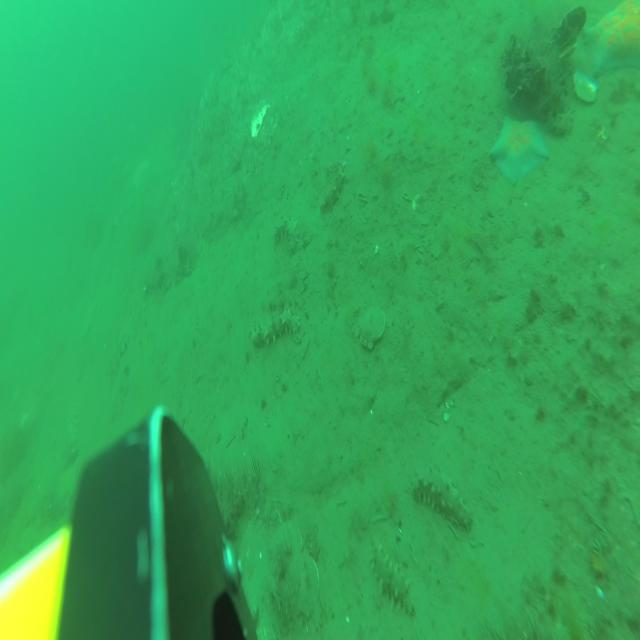holothurian: (413, 466, 471, 530), (371, 544, 415, 616), (252, 308, 298, 350), (320, 157, 346, 210), (108, 332, 130, 384), (65, 406, 80, 463), (276, 217, 298, 255)
scallop: (285, 552, 320, 618), (271, 520, 303, 572), (558, 4, 587, 48), (359, 304, 385, 349), (572, 70, 599, 104)
starfish: (582, 0, 640, 74), (490, 117, 550, 186)
